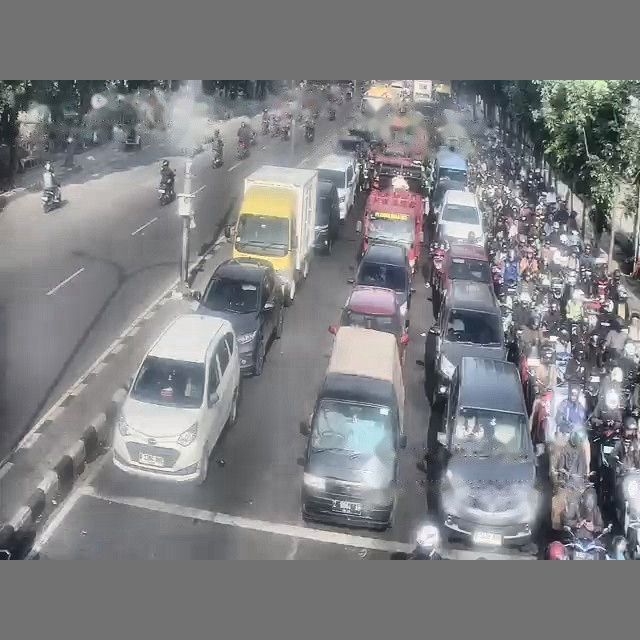Mobil: (113, 314, 240, 483), (300, 327, 406, 529), (429, 357, 541, 547), (194, 258, 284, 375), (424, 281, 506, 405), (339, 286, 408, 360), (348, 244, 414, 320), (433, 243, 492, 315), (316, 153, 357, 220), (436, 190, 484, 244), (314, 180, 339, 254)
Motor: (41, 189, 60, 212), (158, 181, 175, 205), (237, 140, 249, 159), (304, 125, 314, 142)
Truk: (225, 165, 317, 305)
